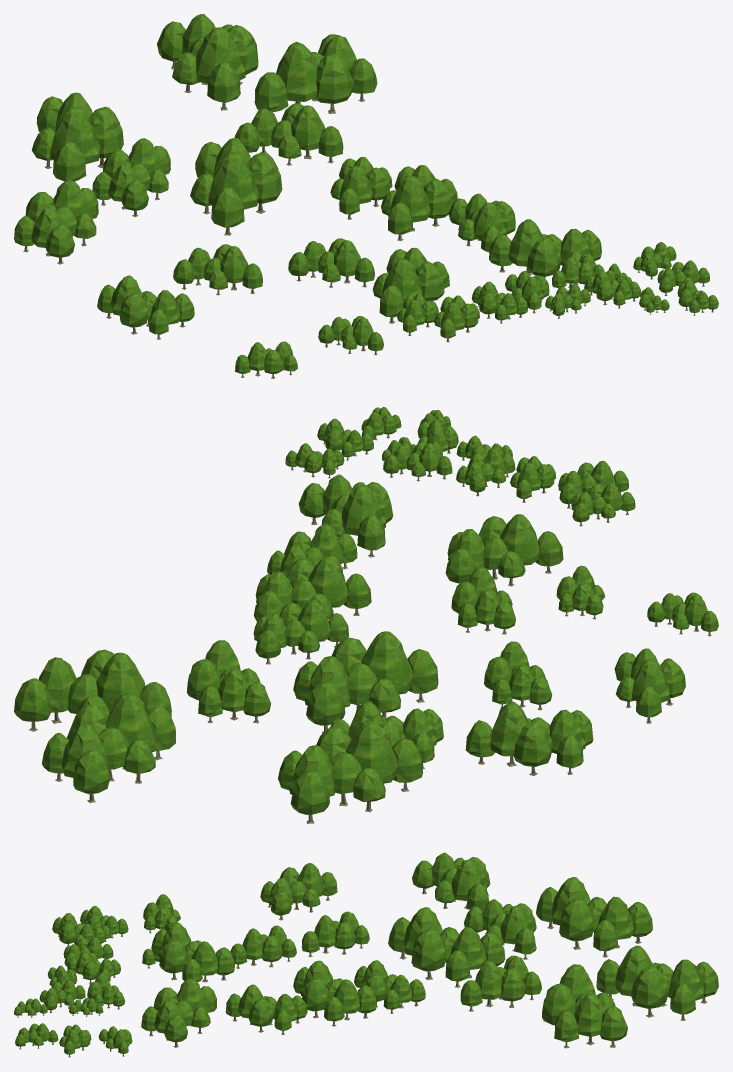
File: MERGED_SM_ENV_KNVLLG_Tree_Distance_A8.mo.fbx
The picture shows the model from 3 angles, top to bottom: view 1: azimuth 30°, elevation 25°; view 2: azimuth 150°, elevation 25°; view 3: azimuth 270°, elevation 25°; orthographic projection. The views are drawn at different scales.
Parts seen in each view (by area): view 1: MERGED_SM_ENV_KNVLLG_Tree_Distance_A8.mo; view 2: MERGED_SM_ENV_KNVLLG_Tree_Distance_A8.mo; view 3: MERGED_SM_ENV_KNVLLG_Tree_Distance_A8.mo.
Part boxes in pixels (box(x1,y1,x2,y2)): MERGED_SM_ENV_KNVLLG_Tree_Distance_A8.mo: box(14, 14, 718, 378); MERGED_SM_ENV_KNVLLG_Tree_Distance_A8.mo: box(14, 407, 718, 823); MERGED_SM_ENV_KNVLLG_Tree_Distance_A8.mo: box(14, 852, 718, 1057).
Bounding box in the file's own units: 349 × 63 × 532.
